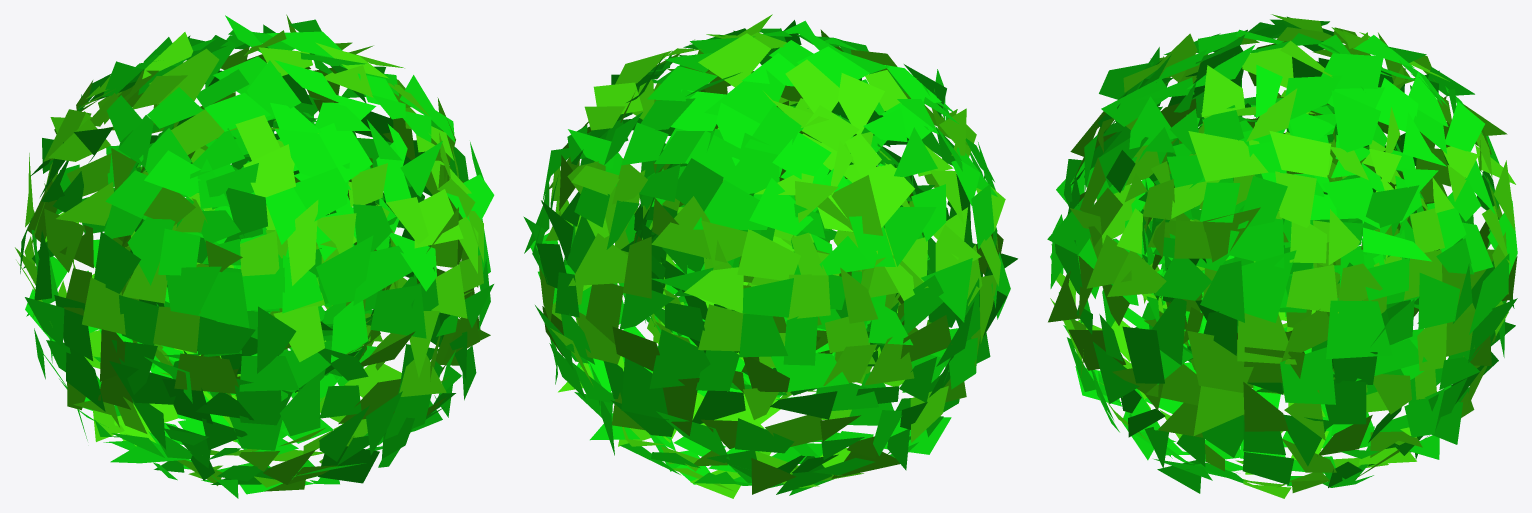
File: ArbustoRedondo.glb
3 renders of one model, left to right at view 1: azimuth 30°, elevation 25°; view 2: azimuth 150°, elevation 25°; view 3: azimuth 270°, elevation 25°, orthographic.
Visible parts, largest first — view 1: Cube.002, Cube.003; view 2: Cube.002, Cube.003; view 3: Cube.002, Cube.003.
Boxes of the visible parts, x1,y1,x2,y2 form: Cube.002: (15, 14, 494, 498); Cube.003: (104, 109, 399, 397); Cube.002: (523, 14, 1017, 498); Cube.003: (621, 98, 932, 399); Cube.002: (1047, 14, 1517, 498); Cube.003: (1138, 90, 1433, 394).
Bounding box in the file's own units: 1.49 × 1.46 × 1.43.
